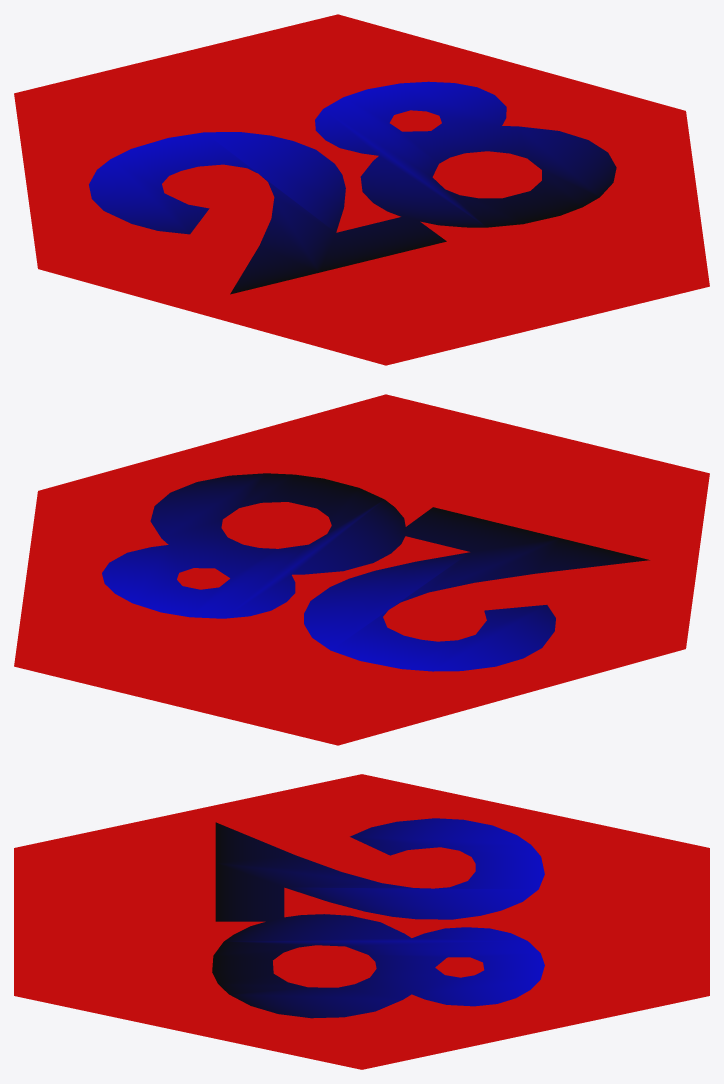
File: SM_Number_28.fbx
The picture shows the model from 3 angles, top to bottom: view 1: azimuth 30°, elevation 25°; view 2: azimuth 150°, elevation 25°; view 3: azimuth 270°, elevation 25°; orthographic projection. The views are drawn at different scales.
Parts seen in each view (by area): view 1: FBX_OUT; view 2: FBX_OUT; view 3: FBX_OUT.
Boxes of the visible parts, x1,y1,x2,y2 form: FBX_OUT: (14,14,709,365); FBX_OUT: (14,394,709,745); FBX_OUT: (14,774,709,1069).
Bounding box in the file's own units: 50 × 0.2917 × 49.71.
